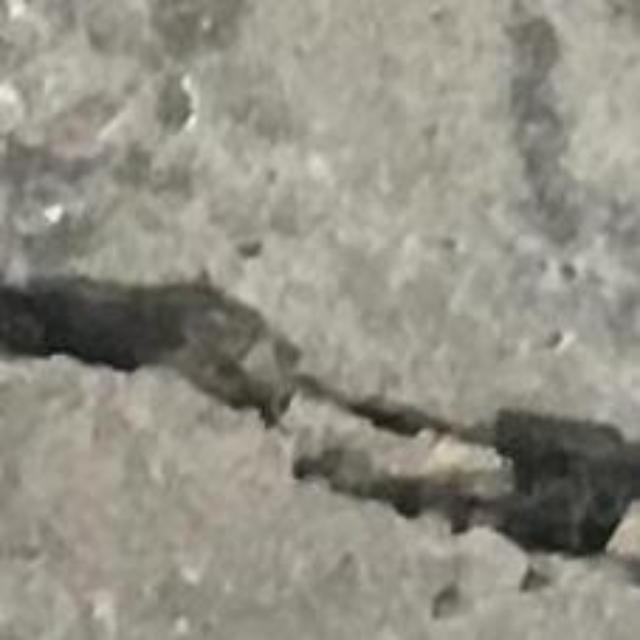crack: (0, 277, 639, 580)
